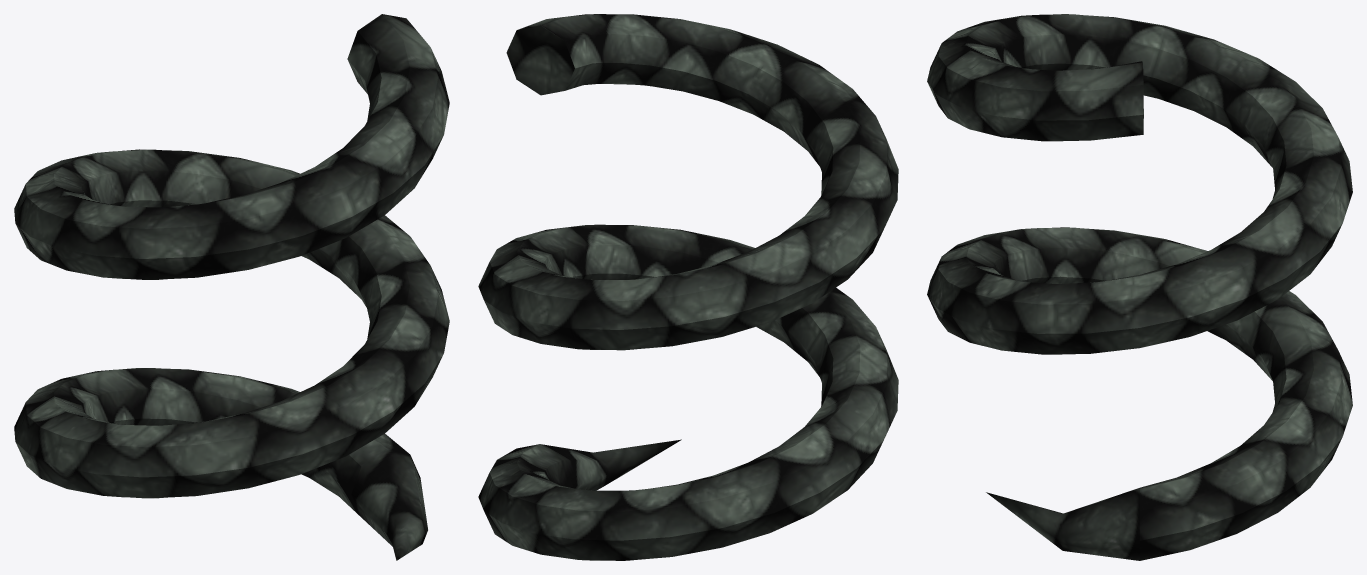
The model's file is Sm_Snake_bottom.fbx.
3 views of the same model, side by side, from view 1: azimuth 30°, elevation 25°; view 2: azimuth 150°, elevation 25°; view 3: azimuth 270°, elevation 25° (orthographic). The views are drawn at different scales.
Parts seen in each view (by area): view 1: polySurface67; view 2: polySurface67; view 3: polySurface67.
Part boxes in pixels (x1,y1,x2,y2): polySurface67: (14,14,449,560); polySurface67: (478,14,898,560); polySurface67: (927,14,1352,560).
Size of the model in its own units: 0.6983 by 0.8989 by 0.6997.
